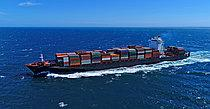Ship: (24, 34, 194, 79)
